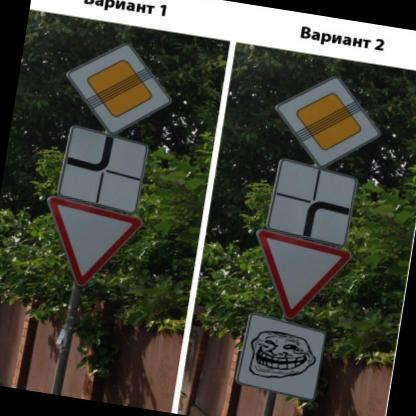road_sign: (276, 77, 382, 168), (66, 45, 174, 134), (47, 196, 143, 288), (257, 230, 352, 321), (55, 125, 151, 215), (265, 159, 359, 249)
